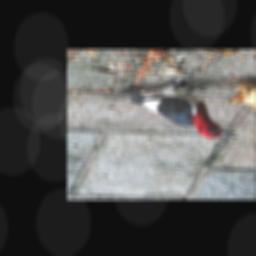Woodpecker: (114, 71, 242, 142)
